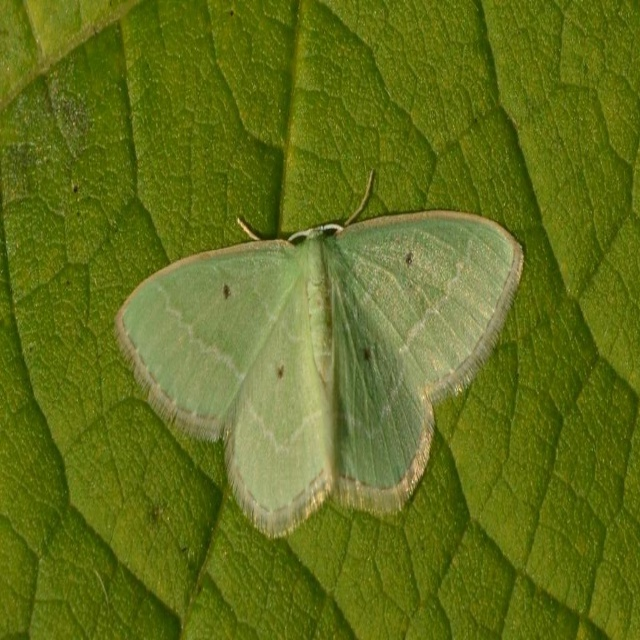Butterfly: (131, 130, 525, 540)
